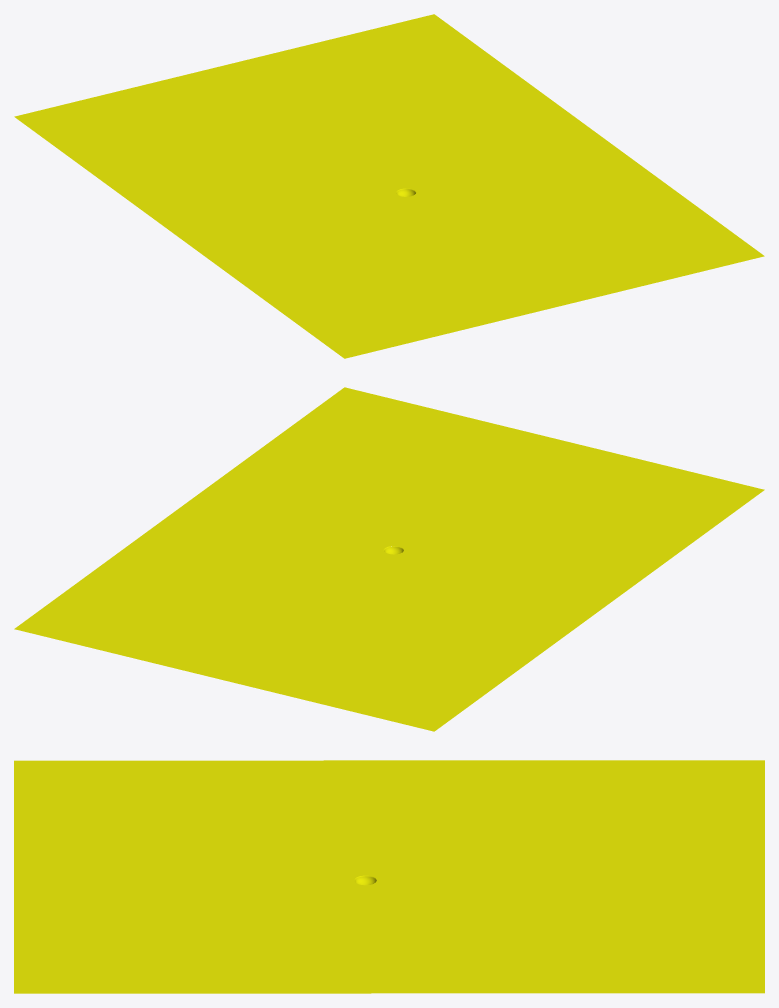
The picture shows the model from 3 angles, top to bottom: view 1: azimuth 30°, elevation 25°; view 2: azimuth 150°, elevation 25°; view 3: azimuth 270°, elevation 25°; orthographic projection. The views are drawn at different scales.
Parts seen in each view (by area): view 1: san1; view 2: san1; view 3: san1.
Part boxes in pixels (x1,y1,x2,y2): san1: (14,14,764,358); san1: (14,387,764,731); san1: (14,760,764,993).
Size of the model in its own units: 19.82 by 0.2385 by 27.
Materials: 1 (1 with a texture image).
